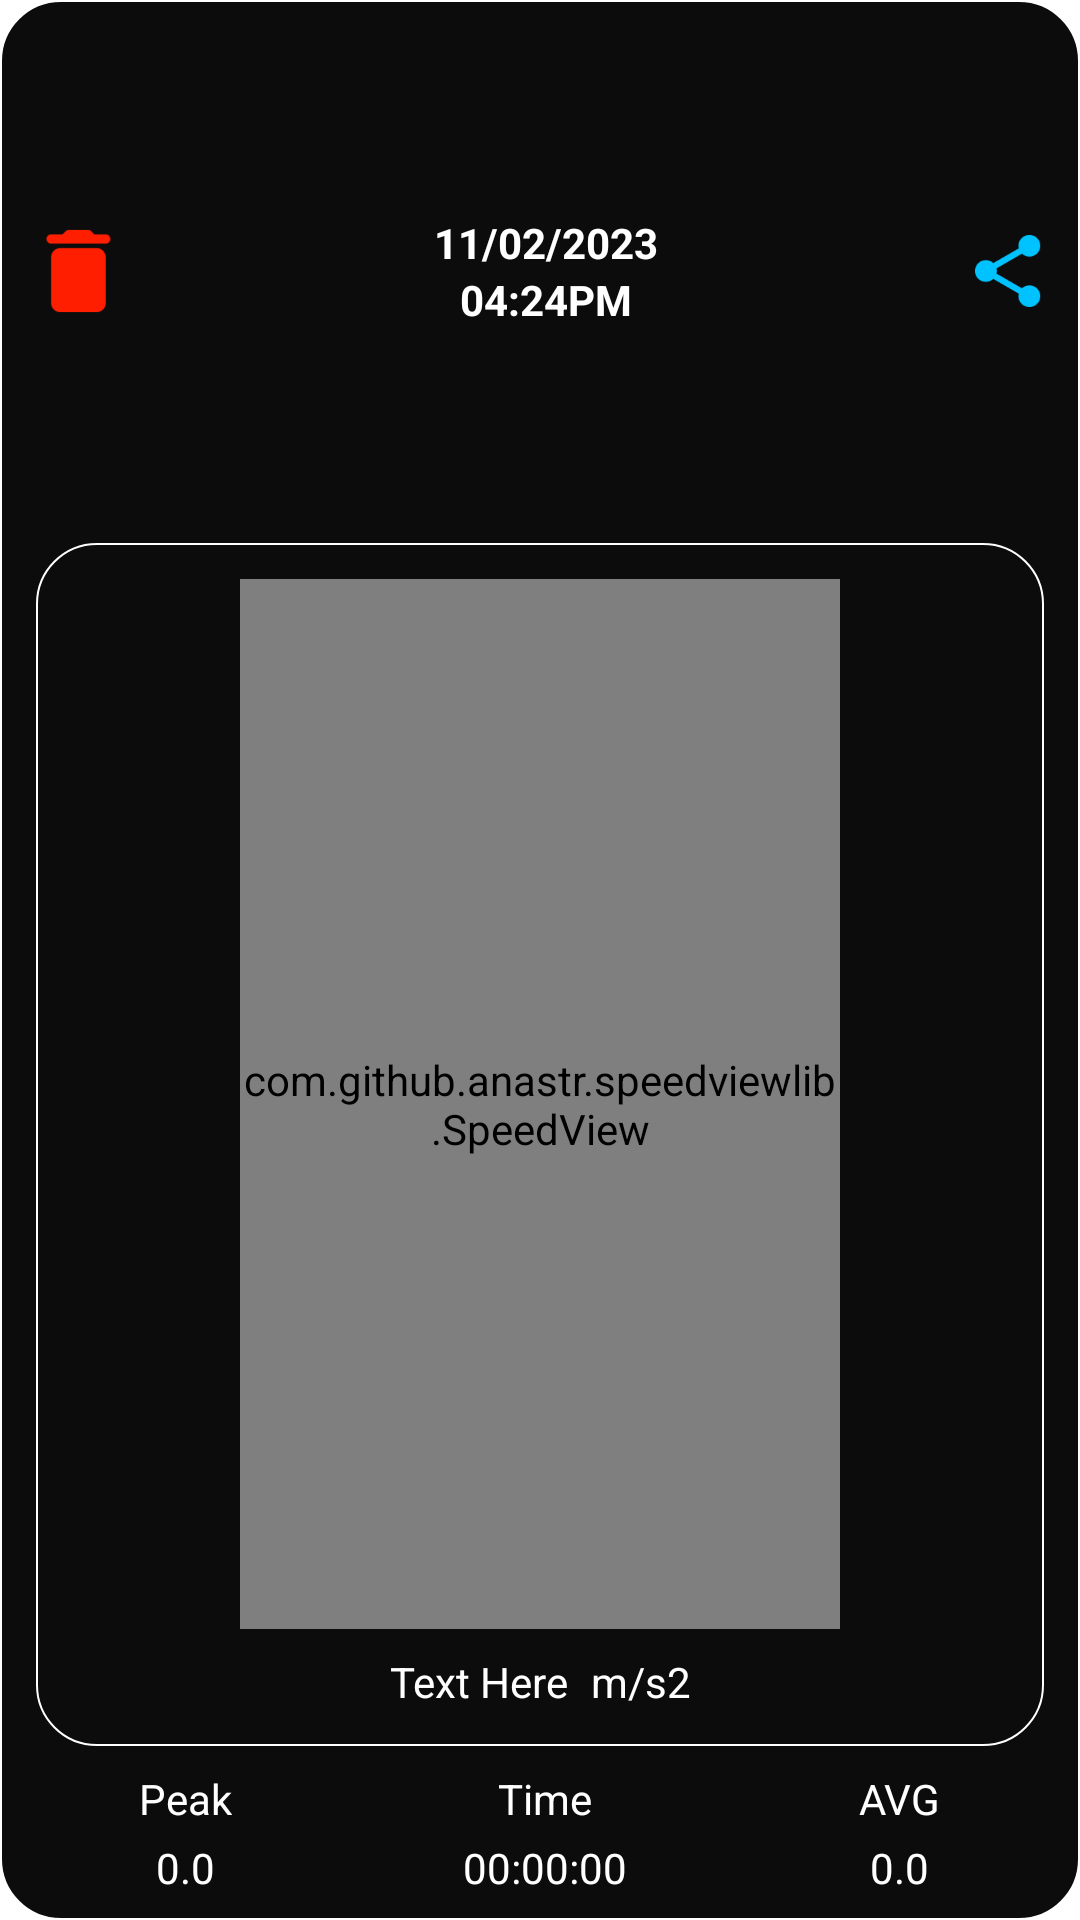

Where icons sit on this 1080x1920 app screen, as box=[x1, y1, x2, y2]:
Delete btn: box=[46, 230, 111, 312]
Sahre btn: box=[975, 235, 1041, 307]
